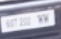w: (44, 14, 50, 22), (37, 15, 43, 22)
